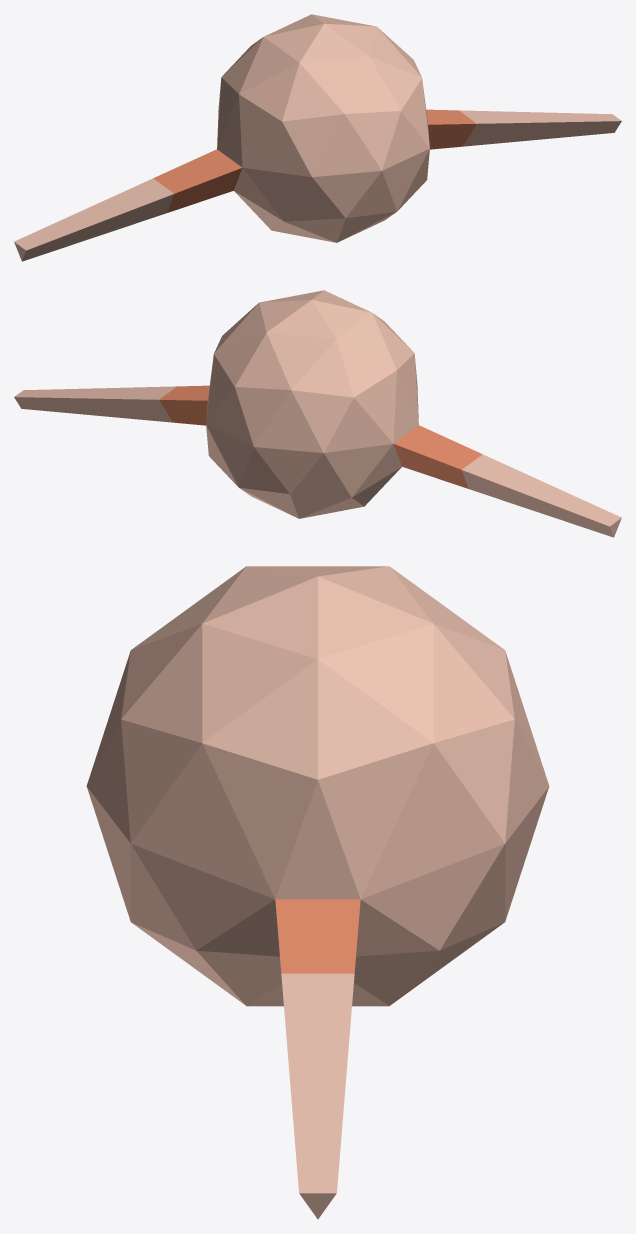
Rendered from Human.fbx.
The picture shows the model from 3 angles, top to bottom: view 1: azimuth 30°, elevation 25°; view 2: azimuth 150°, elevation 25°; view 3: azimuth 270°, elevation 25°; orthographic projection. The views are drawn at different scales.
Parts seen in each view (by area): view 1: Icosphere; view 2: Icosphere; view 3: Icosphere.
Part boxes in pixels (left/top/right/bottom): Icosphere: left=14, top=14, right=621, bottom=261; Icosphere: left=14, top=290, right=621, bottom=537; Icosphere: left=86, top=566, right=549, bottom=1219.
Size of the model in its own units: 152 by 50.86 by 50.86.
